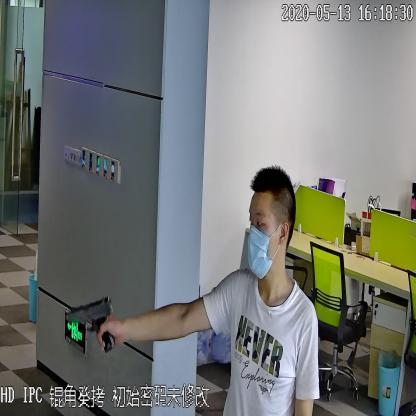gun: (65, 302, 124, 357)
